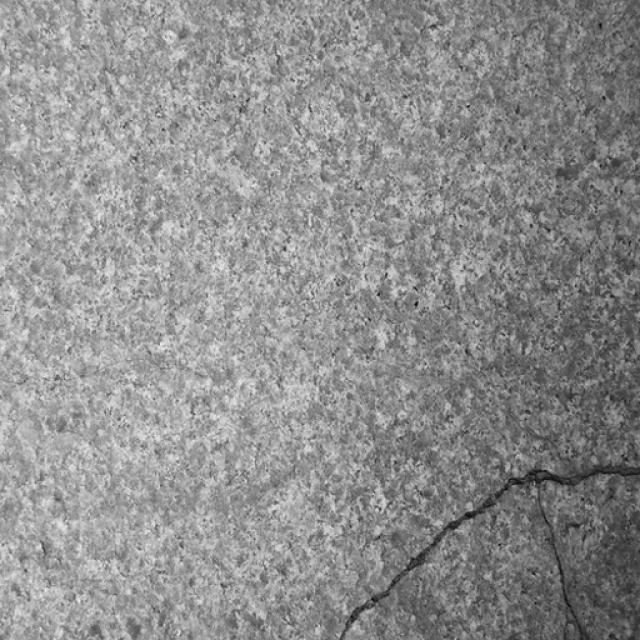SurfaceCrack: (290, 440, 639, 640)
